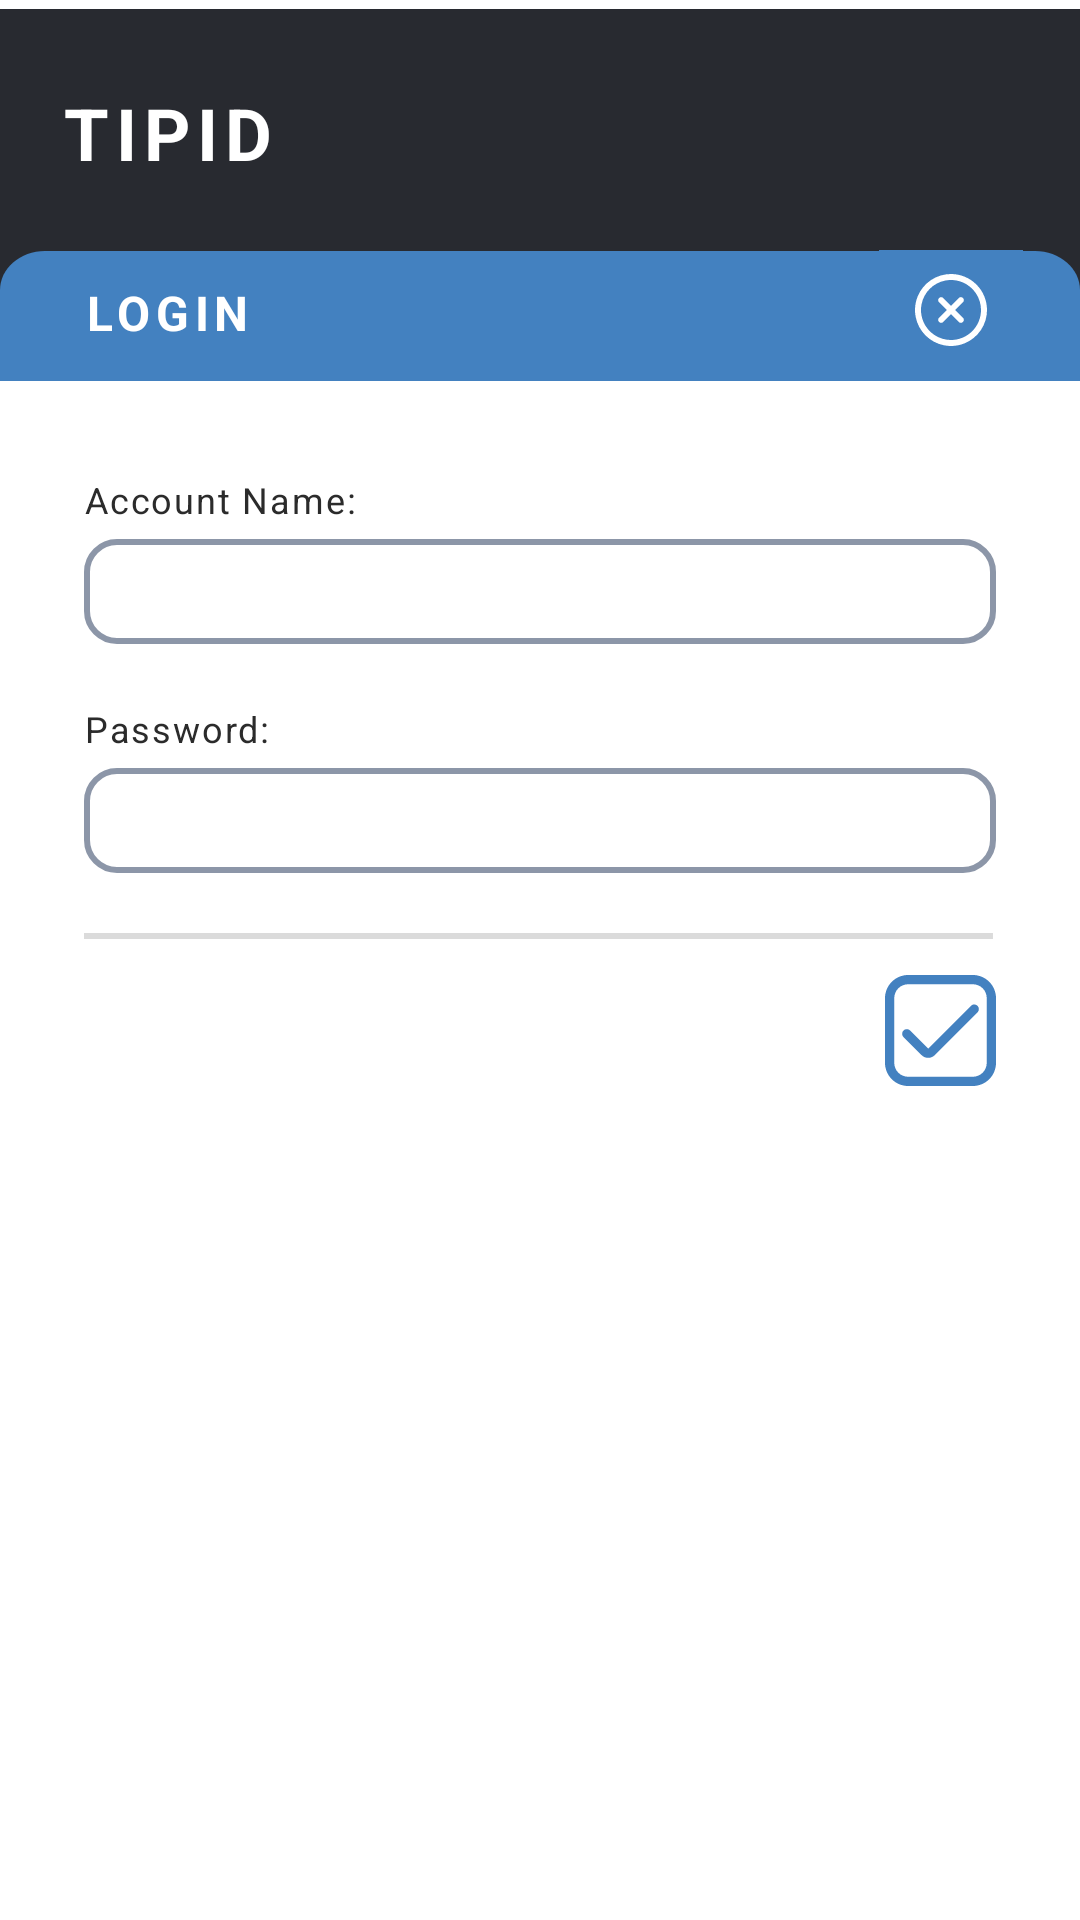

Point at icon controls on the screen. Image size 1080×1920, points as (x=x, y=y).
close: (x=951, y=310)
submit: (x=940, y=1030)
